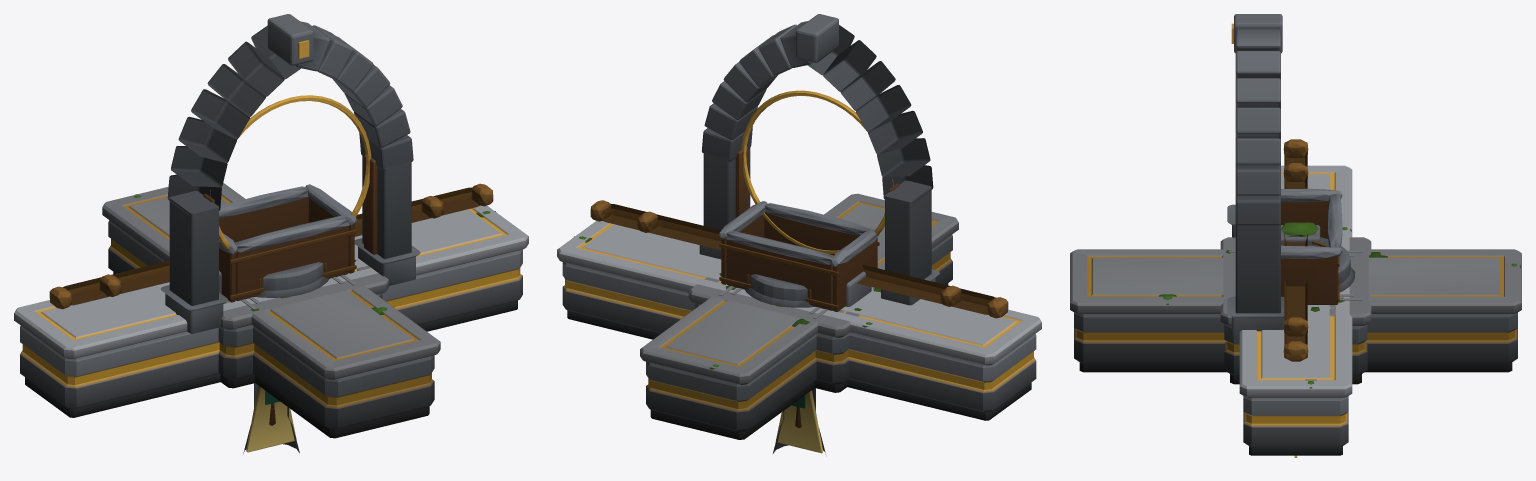
Rendered from temple-2-Ccklj2Kx.glb.
3 views of the same model, side by side, from view 1: azimuth 30°, elevation 25°; view 2: azimuth 150°, elevation 25°; view 3: azimuth 270°, elevation 25° (orthographic). The views are drawn at different scales.
Visible parts, largest first — view 1: block_28x2x6#0, portal_#0, block_7x2x24#0, hopper_6x3#0, mount_12.7#0, block_10x2x8#0, blade_3x10x1#0, geyserVent_3.9#0, mount_9.7#0, block_10x2x7#0; view 2: block_28x2x6#0, portal_#0, block_7x2x24#0, hopper_6x3#0, mount_12.7#0, block_10x2x8#0, blade_3x10x1#0, geyserVent_3.9#0, mount_9.7#0, block_10x2x7#0, boltPost_#0; view 3: block_7x2x24#0, block_28x2x6#0, portal_#0, hopper_6x3#0, block_10x2x8#0, mount_12.7#0, mount_9.7#0, boltPost_#0, geyserVent_3.9#0.
Boxes of the visible parts, x1,y1,x2,y2 form: block_28x2x6#0: (14, 205, 528, 417); portal_#0: (161, 14, 420, 333); block_7x2x24#0: (102, 183, 440, 438); hopper_6x3#0: (219, 184, 357, 302); mount_12.7#0: (49, 183, 493, 309); block_10x2x8#0: (218, 259, 388, 388); blade_3x10x1#0: (246, 385, 296, 452); geyserVent_3.9#0: (255, 262, 329, 297); mount_9.7#0: (99, 196, 443, 296); block_10x2x7#0: (220, 266, 378, 383); block_28x2x6#0: (557, 221, 1041, 420); portal_#0: (699, 14, 939, 305); block_7x2x24#0: (640, 193, 958, 439); hopper_6x3#0: (719, 201, 879, 311); mount_12.7#0: (590, 200, 1008, 318); block_10x2x8#0: (688, 273, 859, 392); blade_3x10x1#0: (775, 390, 823, 453); geyserVent_3.9#0: (745, 274, 814, 307); mount_9.7#0: (637, 211, 961, 306); block_10x2x7#0: (697, 278, 880, 388); boltPost_#0: (845, 271, 871, 306); block_7x2x24#0: (1070, 249, 1521, 372); block_28x2x6#0: (1239, 165, 1352, 455); portal_#0: (1227, 14, 1284, 340); hopper_6x3#0: (1281, 188, 1342, 304); block_10x2x8#0: (1220, 237, 1371, 384); mount_12.7#0: (1283, 139, 1308, 361); mount_9.7#0: (1283, 163, 1308, 336); boltPost_#0: (1281, 222, 1320, 246); geyserVent_3.9#0: (1312, 237, 1354, 292).
Bounding box in the file's own units: 28 × 25.59 × 24.
